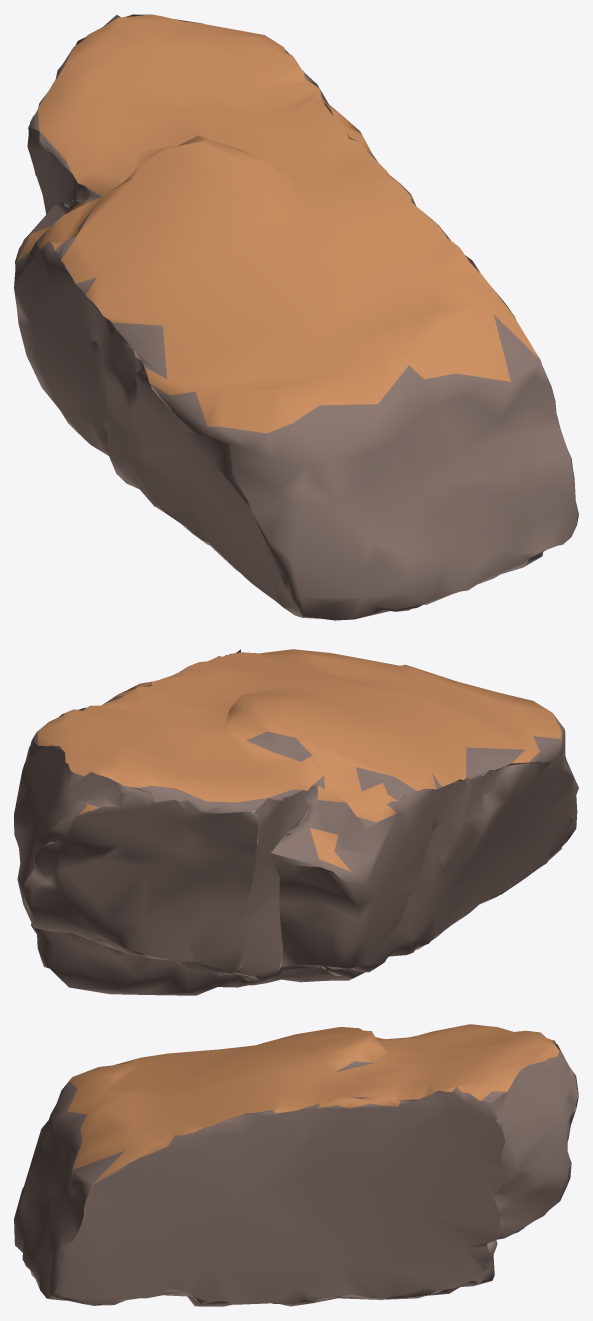
The model's file is rock_boulder_a.glb.
3 views of the same model, one above another, from view 1: azimuth 30°, elevation 25°; view 2: azimuth 150°, elevation 25°; view 3: azimuth 270°, elevation 25° (orthographic). The views are drawn at different scales.
Parts seen in each view (by area): view 1: rock_boulder_a-convcol; view 2: rock_boulder_a-convcol; view 3: rock_boulder_a-convcol.
Boxes of the visible parts, bbox=[...] form: rock_boulder_a-convcol: bbox=[14, 14, 578, 620]; rock_boulder_a-convcol: bbox=[14, 649, 578, 995]; rock_boulder_a-convcol: bbox=[14, 1024, 578, 1306].
Size of the model in its own units: 0.9461 by 0.8076 by 1.8.
